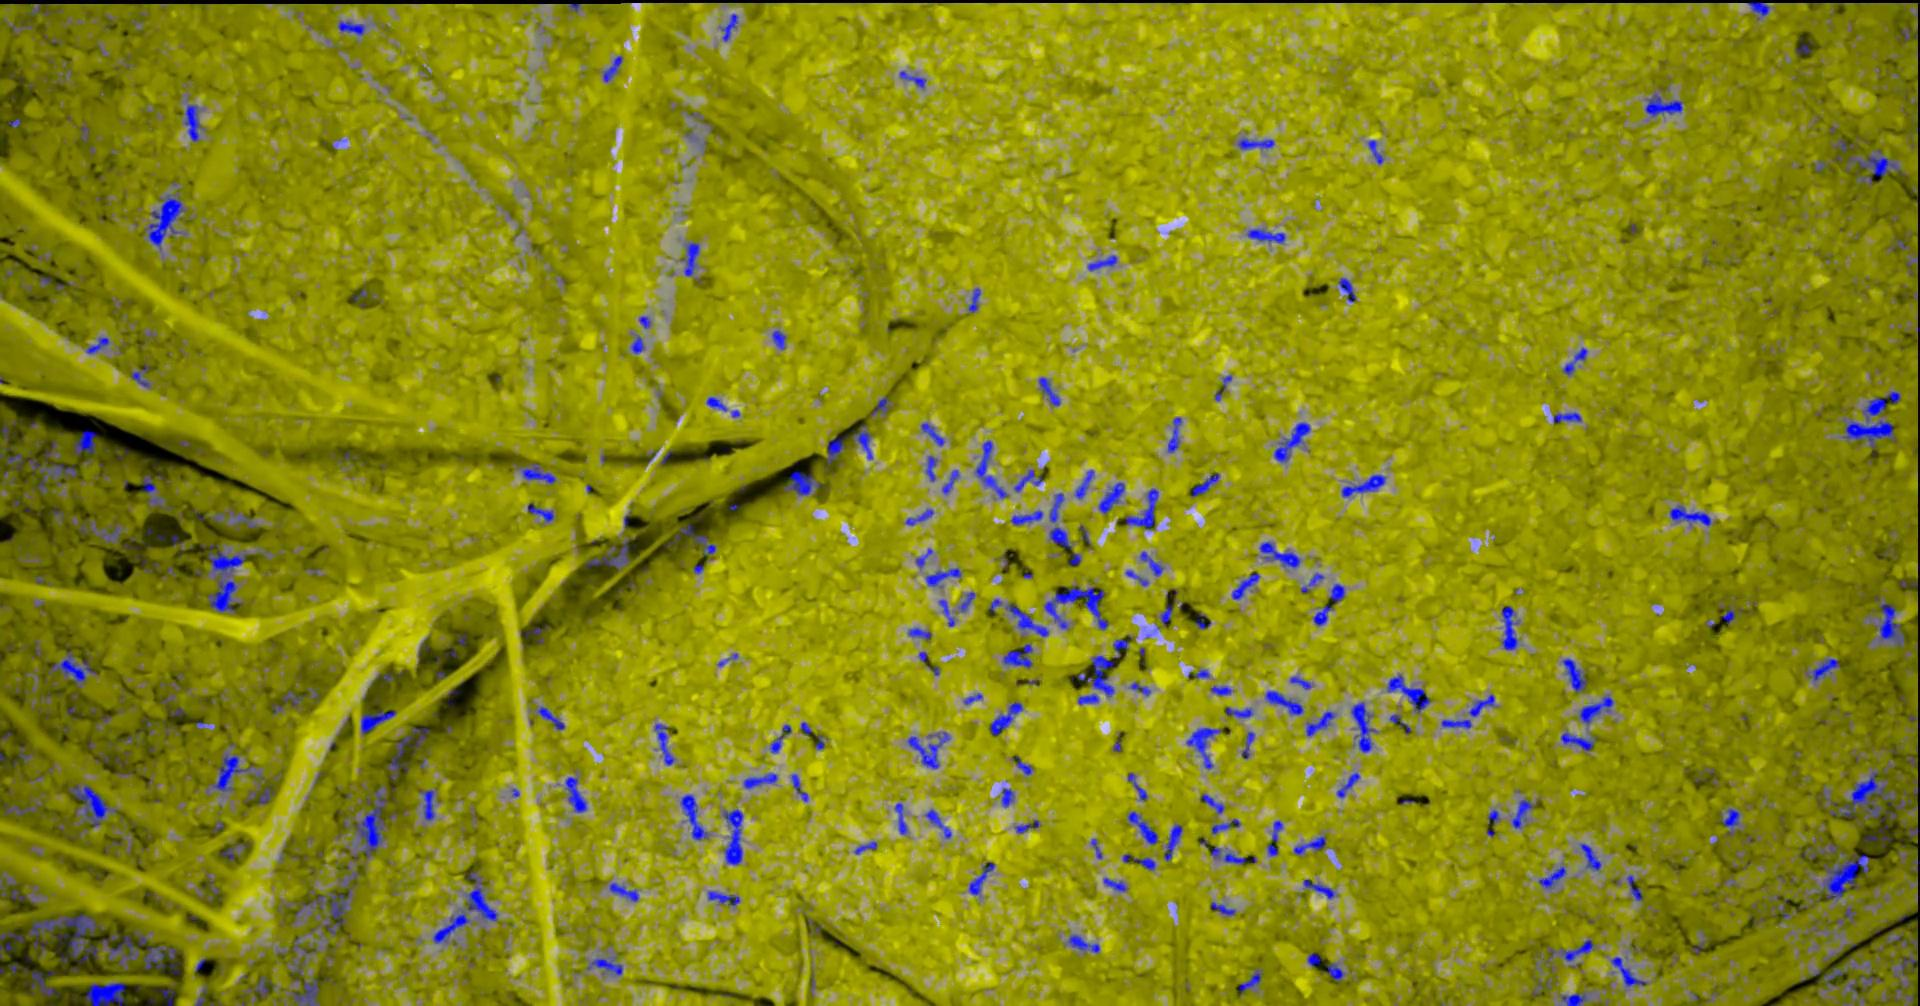ant: (295, 873, 361, 934), (1045, 586, 1110, 629), (29, 439, 79, 494), (356, 788, 389, 857), (50, 641, 99, 686), (389, 727, 430, 779), (70, 782, 119, 826), (147, 194, 185, 250), (977, 439, 1010, 498), (1073, 655, 1119, 696), (1849, 149, 1901, 184), (587, 537, 636, 572), (1388, 674, 1431, 713), (213, 753, 255, 791), (467, 870, 499, 920), (909, 730, 950, 768), (668, 523, 717, 554), (109, 929, 149, 967), (1275, 422, 1312, 462), (1007, 603, 1050, 636), (1126, 488, 1161, 528), (1189, 727, 1222, 768), (1352, 701, 1378, 752), (682, 794, 709, 840), (434, 909, 471, 942), (1879, 602, 1906, 647), (990, 701, 1023, 735), (1611, 956, 1648, 986), (725, 808, 744, 864), (145, 945, 183, 973), (293, 977, 331, 1005), (25, 967, 61, 996), (1261, 541, 1302, 567), (1129, 810, 1159, 843), (1343, 474, 1387, 497), (80, 520, 123, 542), (1581, 696, 1615, 724), (785, 470, 822, 495), (86, 982, 127, 1005), (1267, 690, 1305, 714), (362, 710, 397, 734), (1100, 481, 1126, 513), (970, 861, 996, 894), (1564, 658, 1589, 692), (1671, 506, 1712, 526), (1646, 94, 1684, 116), (657, 723, 676, 765), (1233, 572, 1261, 600), (926, 809, 952, 838), (1562, 939, 1595, 962), (1503, 605, 1520, 649), (568, 776, 588, 812), (1004, 643, 1034, 667), (1307, 711, 1336, 735), (184, 104, 203, 141), (1820, 967, 1850, 989), (1810, 658, 1841, 680), (522, 464, 557, 483), (927, 567, 963, 586), (1562, 730, 1597, 749), (1164, 824, 1183, 860), (1802, 843, 1846, 859), (1564, 347, 1589, 375), (853, 426, 874, 459), (1015, 469, 1044, 492), (1512, 799, 1535, 828), (1, 876, 30, 899), (1192, 473, 1220, 495), (538, 706, 566, 729), (1211, 846, 1247, 864), (1887, 934, 1920, 953), (1850, 976, 1883, 995), (75, 429, 99, 455), (1, 446, 25, 471), (1, 931, 25, 956), (1239, 969, 1263, 995), (589, 958, 623, 976), (1305, 879, 1337, 898), (1040, 377, 1062, 405), (771, 724, 792, 752), (1540, 866, 1568, 888), (1248, 227, 1288, 243), (683, 243, 701, 276), (1470, 694, 1496, 716), (250, 976, 276, 998), (1581, 843, 1603, 870), (1295, 836, 1327, 854), (1069, 934, 1101, 951), (1076, 469, 1095, 498), (611, 882, 640, 901), (922, 422, 946, 445), (1142, 551, 1164, 575), (1338, 772, 1361, 796), (1721, 808, 1741, 835), (1129, 772, 1148, 800), (1269, 821, 1284, 855), (604, 55, 623, 81), (721, 13, 739, 41), (1170, 417, 1183, 452), (828, 436, 846, 464), (792, 774, 810, 801), (1302, 572, 1324, 593), (1201, 793, 1225, 813), (902, 70, 928, 88), (1051, 526, 1073, 547), (255, 782, 277, 804), (1050, 492, 1065, 522), (1090, 254, 1117, 271), (907, 508, 935, 525), (745, 774, 778, 788), (709, 890, 742, 904), (132, 363, 151, 387), (530, 503, 555, 521), (5, 803, 41, 815), (1213, 818, 1242, 833), (1012, 511, 1044, 525), (422, 789, 436, 821), (940, 600, 956, 626), (1628, 874, 1644, 901), (1340, 277, 1357, 301), (1369, 138, 1385, 164), (1217, 375, 1233, 400), (897, 801, 909, 835), (1390, 714, 1412, 733), (1749, 0, 1771, 18), (339, 20, 366, 36), (943, 469, 960, 493), (1316, 605, 1335, 625), (1015, 754, 1034, 775), (1326, 962, 1346, 981), (88, 337, 110, 353), (1128, 569, 1150, 586), (284, 690, 307, 706), (1239, 138, 1276, 149), (376, 669, 404, 682), (1243, 730, 1256, 758), (1211, 901, 1237, 915), (872, 398, 891, 415), (917, 547, 935, 567), (1016, 819, 1040, 833), (1114, 638, 1130, 658), (1901, 955, 1917, 976), (156, 988, 177, 1005), (969, 287, 982, 312), (1563, 992, 1589, 1005), (1105, 876, 1128, 890), (960, 592, 977, 611), (709, 396, 729, 412), (1331, 583, 1346, 603), (522, 625, 549, 636), (927, 455, 938, 480), (293, 958, 306, 981), (1556, 412, 1583, 422), (1131, 681, 1152, 695), (1227, 706, 1255, 716), (1837, 138, 1859, 151), (1162, 603, 1175, 625), (856, 841, 877, 854), (1443, 719, 1473, 728), (773, 330, 787, 349), (143, 474, 157, 493), (19, 743, 33, 762), (1291, 676, 1312, 688), (196, 984, 208, 1005), (1796, 41, 1813, 55), (1723, 607, 1737, 625), (910, 627, 932, 639), (632, 334, 645, 353), (237, 514, 257, 527), (1003, 788, 1016, 807), (1897, 25, 1912, 41), (1135, 857, 1156, 869), (1211, 685, 1233, 695), (965, 692, 984, 704), (1197, 612, 1211, 627), (1308, 951, 1322, 967), (1079, 694, 1100, 704), (222, 847, 236, 861), (1865, 835, 1893, 841), (1189, 669, 1211, 677), (1490, 809, 1501, 823), (81, 124, 90, 141), (1070, 553, 1082, 564)
